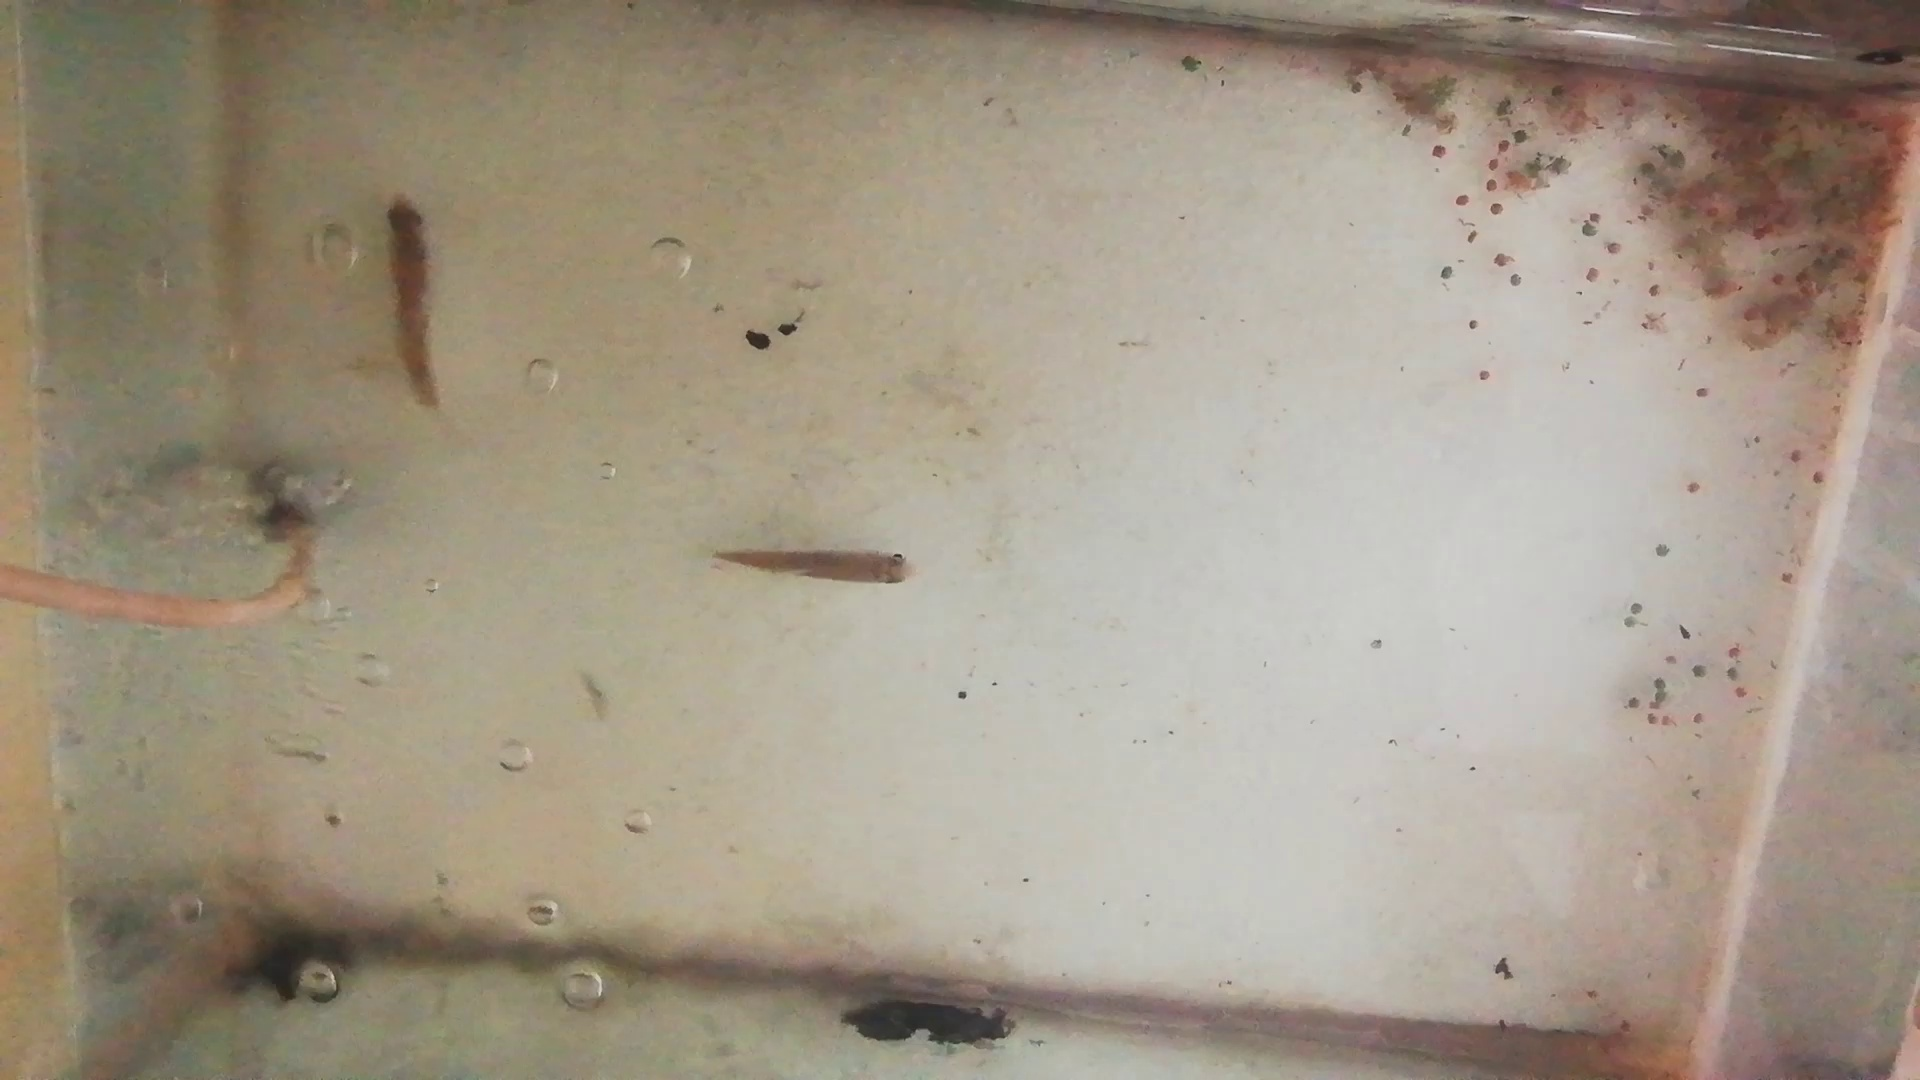fish: (378, 199, 442, 406), (711, 546, 916, 591)
